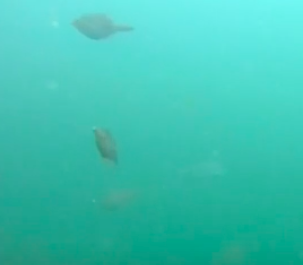kawahagi: (66, 12, 141, 45)
